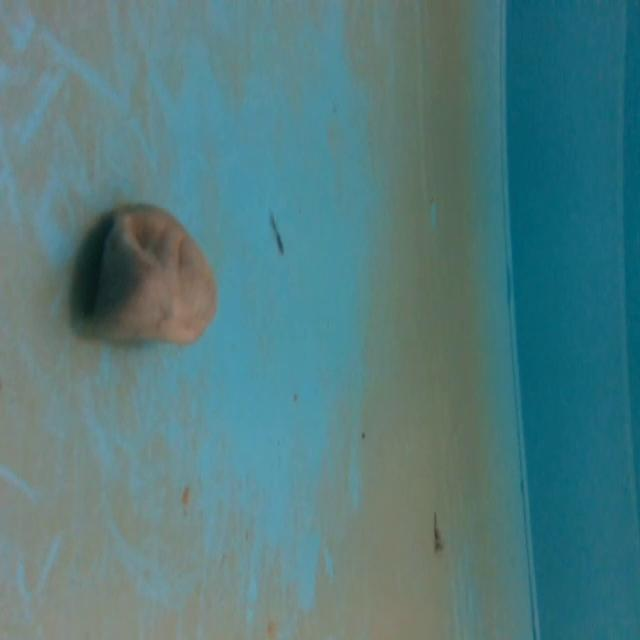rock: (65, 196, 227, 360)
